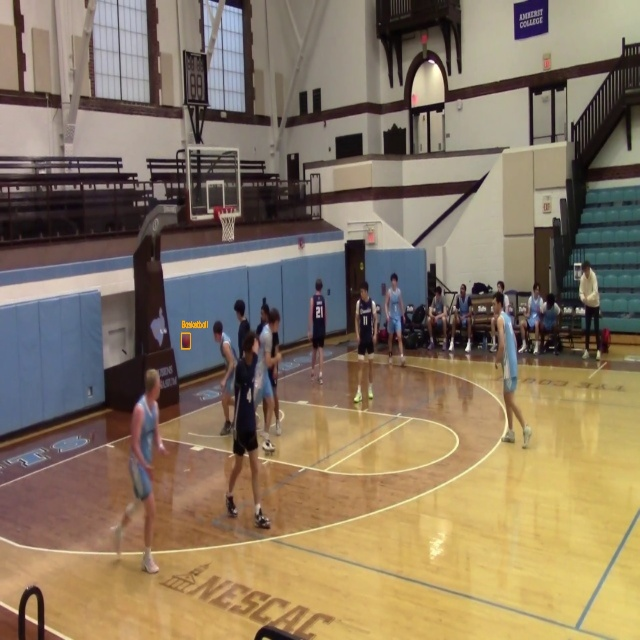Basketball: (181, 333, 190, 349)
